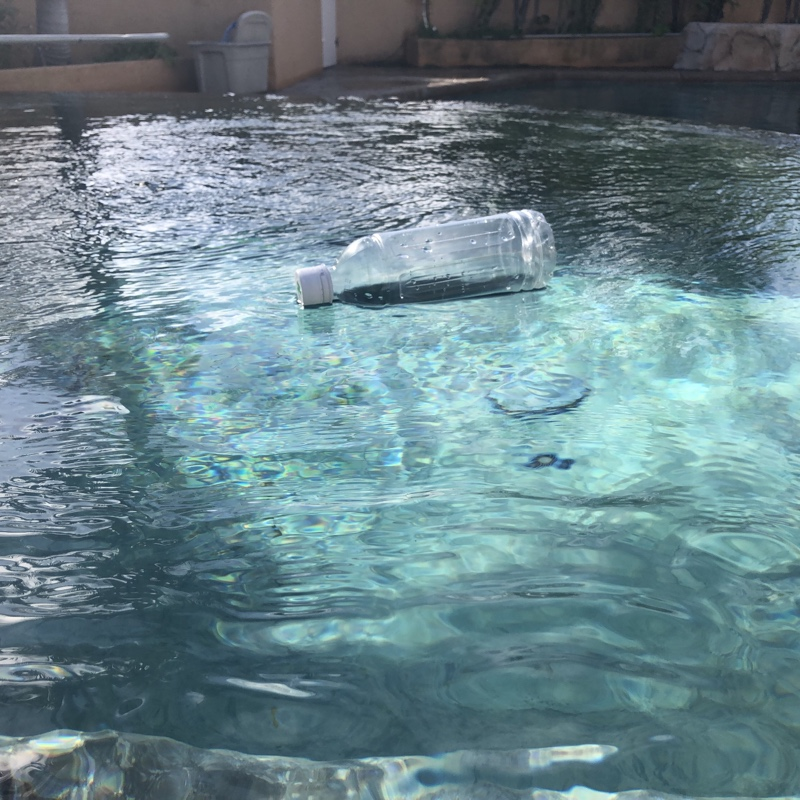Plastic Bottle: (290, 207, 558, 310)
